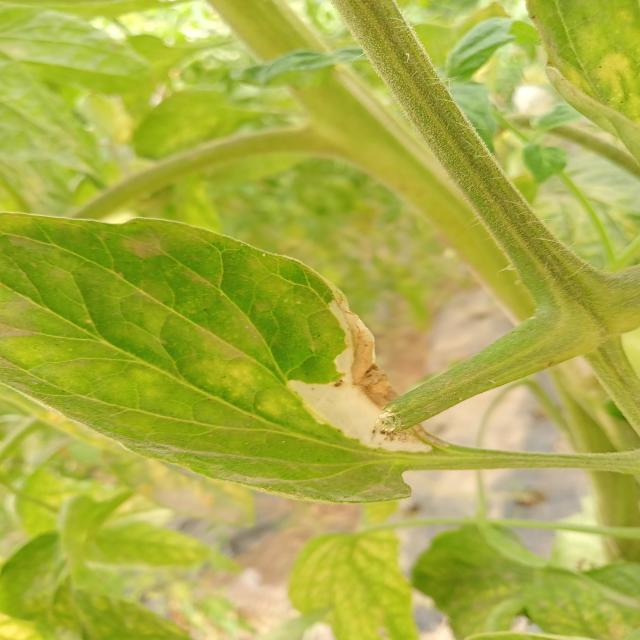Tuta absoluta: (262, 291, 449, 492)
